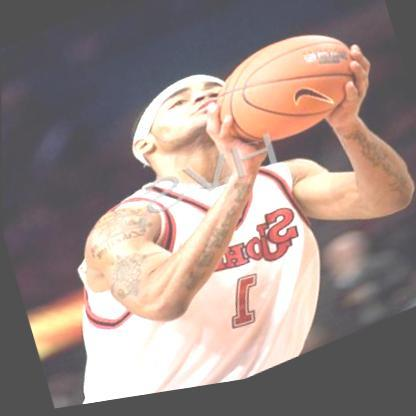basketball: (203, 21, 367, 171)
